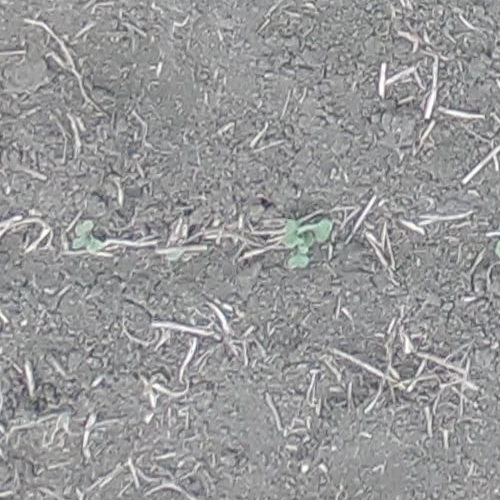plant: (282, 220, 337, 246), (69, 220, 101, 251), (286, 246, 311, 269), (495, 210, 499, 267)
